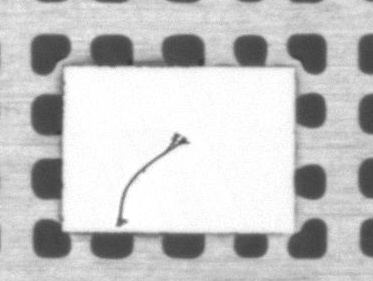DIE_INK: (137, 95, 269, 173)
